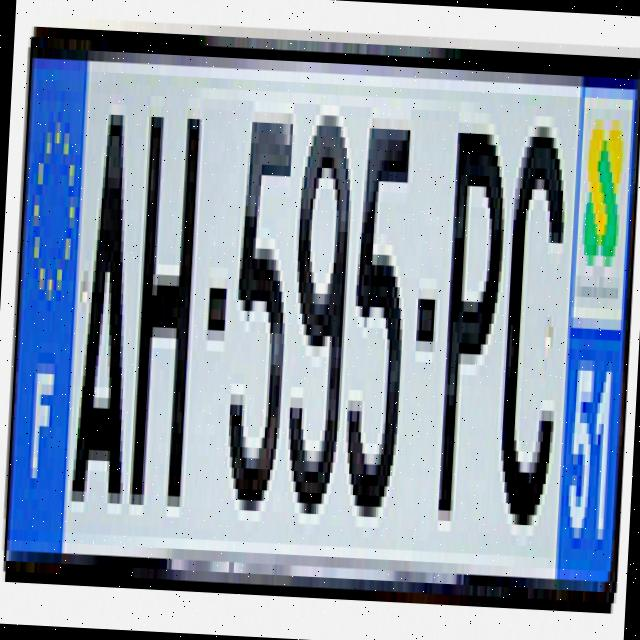EU: (3, 40, 640, 599)
France: (6, 50, 87, 574)
